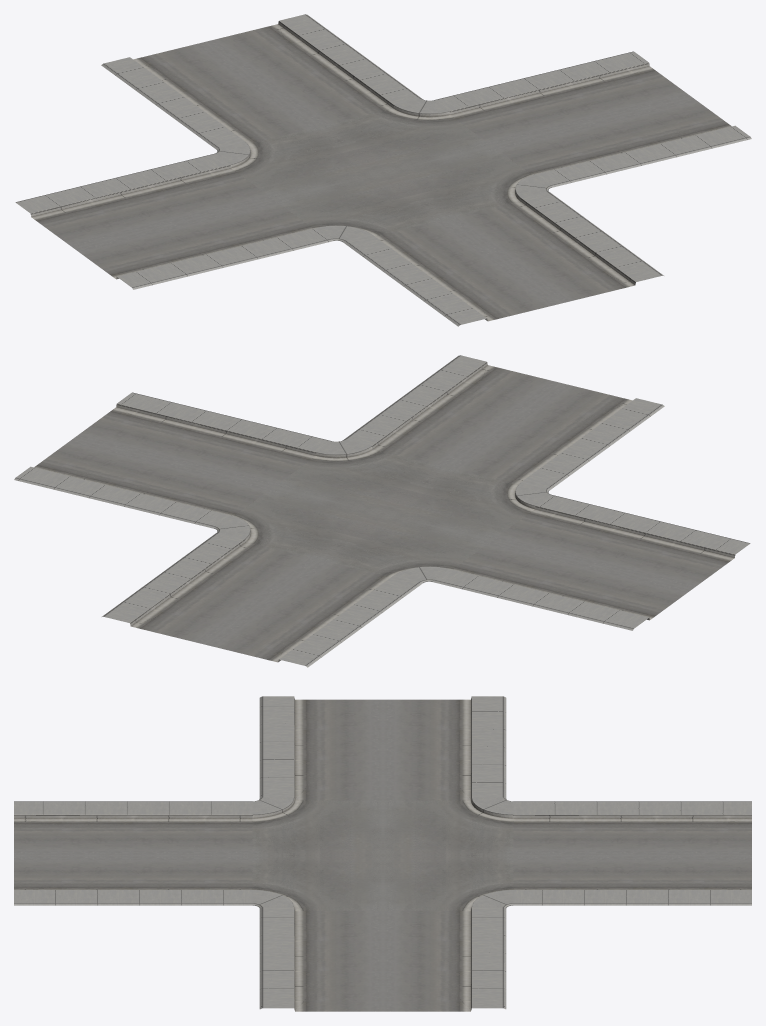
Rendered from Street_4Intersection.FBX.
3 views of the same model, one above another, from view 1: azimuth 30°, elevation 25°; view 2: azimuth 150°, elevation 25°; view 3: azimuth 270°, elevation 25° (orthographic). The views are drawn at different scales.
Visible parts, largest first — view 1: Street_4Intersection; view 2: Street_4Intersection; view 3: Street_4Intersection.
Boxes of the visible parts, x1,y1,x2,y2 form: Street_4Intersection: [15, 14, 751, 326]; Street_4Intersection: [14, 355, 750, 667]; Street_4Intersection: [14, 696, 751, 1011].
Bounding box in the file's own units: 1547 × 7.5 × 1547.
2 materials, 2 textured.
